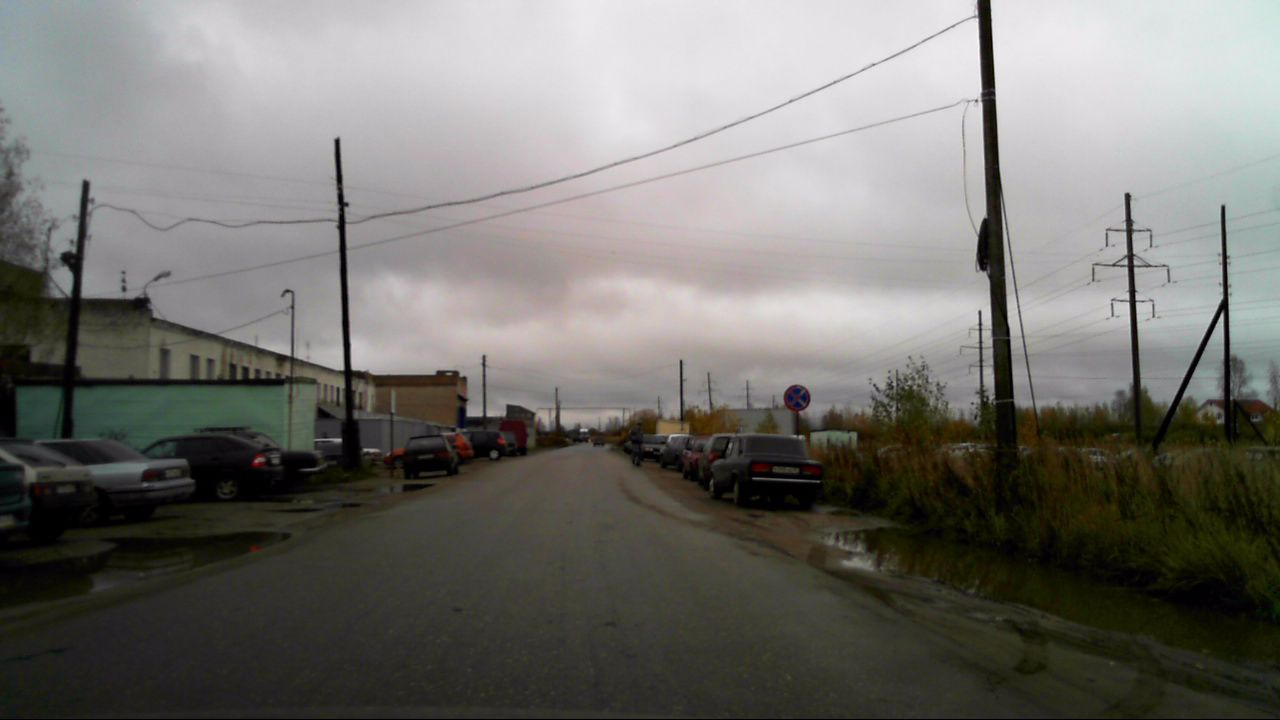No Parking: (783, 384, 810, 411)
